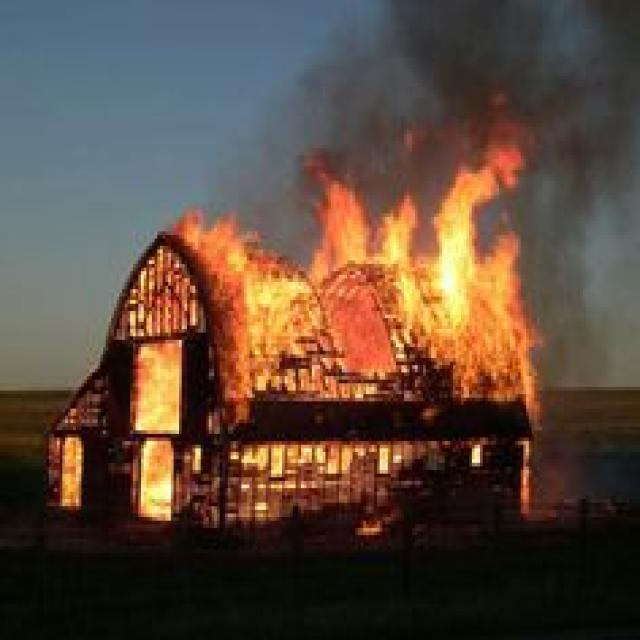Fire: (40, 172, 554, 555), (282, 3, 640, 174), (538, 174, 640, 431)
